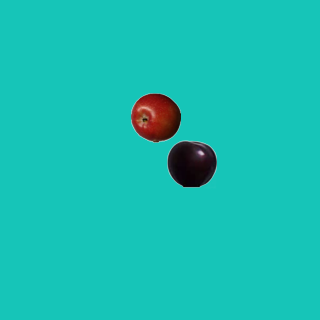Apple Braeburn: (130, 92, 180, 142)
Cherry Wax Black: (166, 138, 216, 188)
